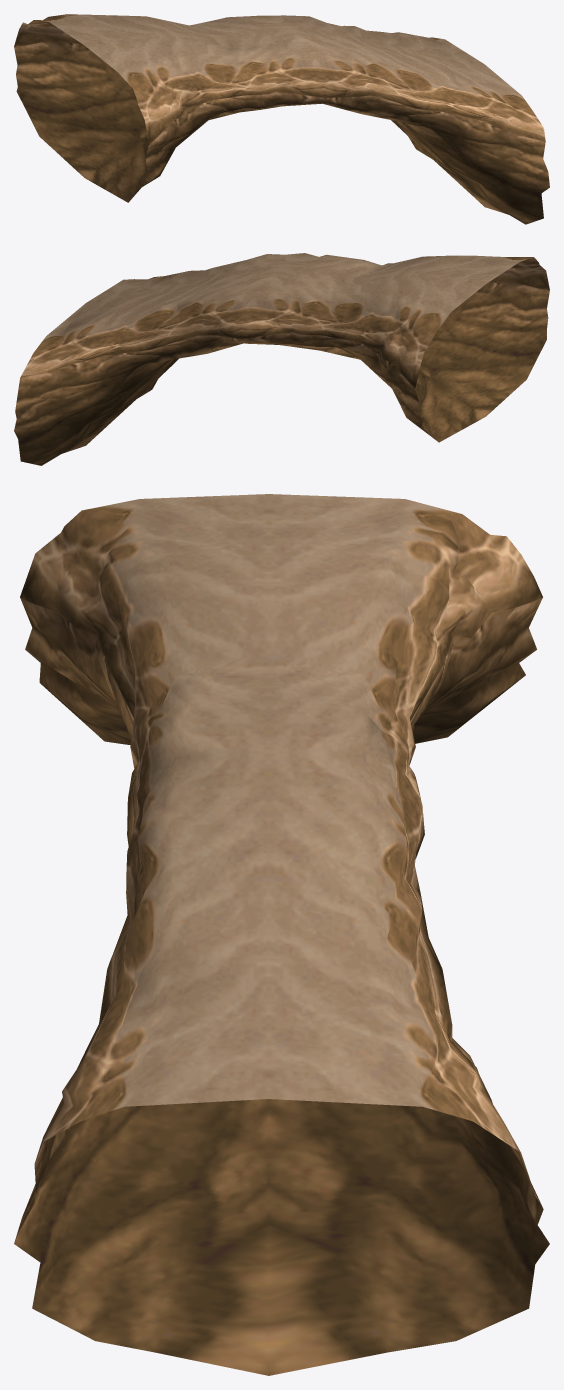
File: Item_5008_shitou_qiao.FBX
3 views of the same model, one above another, from view 1: azimuth 30°, elevation 25°; view 2: azimuth 150°, elevation 25°; view 3: azimuth 270°, elevation 25° (orthographic). The views are drawn at different scales.
Visible parts, largest first — view 1: Item_5008_shitou_qiao; view 2: Item_5008_shitou_qiao; view 3: Item_5008_shitou_qiao.
Boxes of the visible parts, x1,y1,x2,y2 form: Item_5008_shitou_qiao: (14,14,549,224); Item_5008_shitou_qiao: (14,253,549,465); Item_5008_shitou_qiao: (14,494,549,1375).
Size of the model in its own units: 1652 by 1015 by 980.
